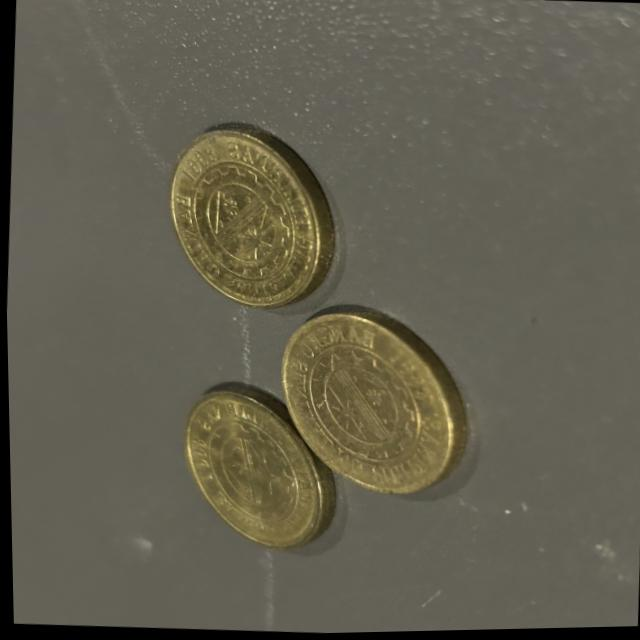25Cent_Old_Back: (162, 137, 338, 296), (292, 316, 460, 476), (172, 403, 336, 538)
